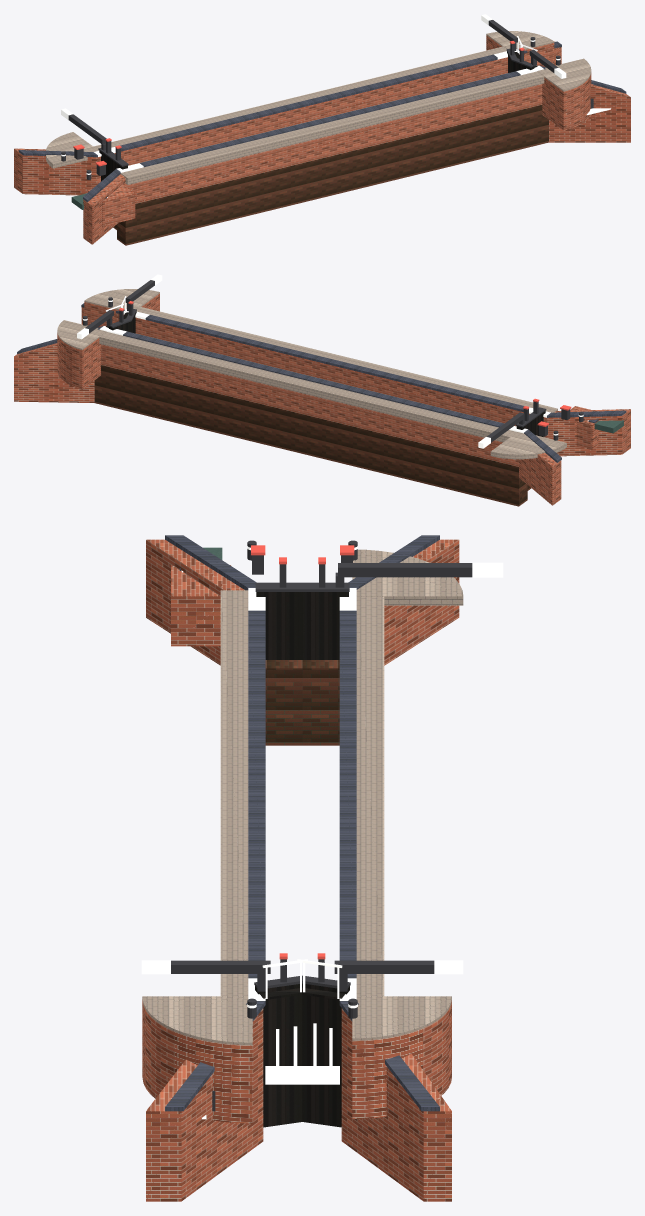
File: lock-39.glb
3 renders of one model, top to bottom at view 1: azimuth 30°, elevation 25°; view 2: azimuth 150°, elevation 25°; view 3: azimuth 270°, elevation 25°, orthographic. The views are drawn at different scales.
Visible parts, largest first — view 1: Chamber, ChamberWet, Edge, Coping.001, TopGateCap, Coping, TopGate; view 2: Chamber, ChamberWet, Edge, Coping.001, TopGateCap, Coping, TopGate; view 3: Chamber, Edge, Coping.001, TopGate, TopGateCap, ChamberWet, Coping, Leak.
Part boxes in pixels (bbox=[...]): Chamber: bbox=[14, 35, 630, 244]; ChamberWet: bbox=[113, 105, 548, 245]; Edge: bbox=[46, 31, 591, 184]; Coping.001: bbox=[18, 41, 626, 201]; TopGateCap: bbox=[61, 20, 593, 179]; Coping: bbox=[61, 14, 566, 174]; TopGate: bbox=[99, 51, 537, 181]; Chamber: bbox=[14, 293, 630, 505]; ChamberWet: bbox=[94, 365, 531, 506]; Edge: bbox=[57, 289, 566, 459]; Coping.001: bbox=[17, 303, 626, 462]; TopGateCap: bbox=[83, 280, 583, 442]; Coping: bbox=[77, 274, 583, 448]; TopGate: bbox=[106, 311, 545, 436]; Chamber: bbox=[142, 539, 459, 1201]; Edge: bbox=[142, 549, 463, 1045]; Coping.001: bbox=[165, 535, 439, 1111]; TopGate: bbox=[255, 592, 349, 1127]; TopGateCap: bbox=[171, 540, 472, 1111]; ChamberWet: bbox=[265, 660, 339, 745]; Coping: bbox=[141, 546, 503, 1008]; Leak: bbox=[181, 570, 339, 1119].
Bounding box in the file's own units: 35.05 × 5.43 × 10.16.
11 materials, 8 textured.
